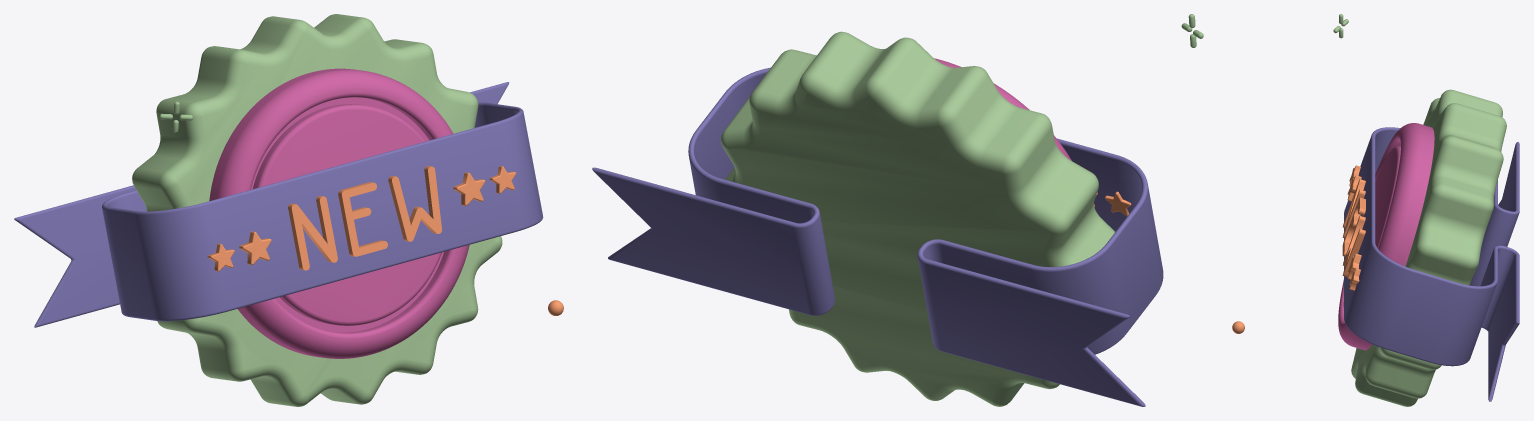
File: new-product-badge-3d-animated-icon-158497632342.glb
3 renders of one model, left to right at view 1: azimuth 30°, elevation 25°; view 2: azimuth 150°, elevation 25°; view 3: azimuth 270°, elevation 25°, orthographic. The views are drawn at different scales.
Visible parts, largest first — view 1: Plane, Circle, Cylinder.002, Curve.001, Curve.002, Curve, Curve.004, Curve.005; view 2: Circle, Plane; view 3: Plane, Circle, Cylinder.002, Curve.002, Curve, Curve.001, Curve.004, Curve.005.
Boxes of the visible parts, <box> form: Plane: <box>14,82,543,327</box>; Circle: <box>132,14,502,406</box>; Cylinder.002: <box>209,68,469,358</box>; Curve.001: <box>288,196,337,270</box>; Curve.002: <box>388,166,441,241</box>; Curve: <box>338,182,387,256</box>; Curve.004: <box>239,172,485,264</box>; Curve.005: <box>207,166,516,271</box>; Circle: <box>721,31,1114,406</box>; Plane: <box>592,67,1163,406</box>; Plane: <box>1344,127,1519,401</box>; Circle: <box>1351,89,1506,406</box>; Cylinder.002: <box>1338,123,1434,350</box>; Curve.002: <box>1342,216,1365,277</box>; Curve: <box>1342,197,1365,256</box>; Curve.001: <box>1342,179,1365,238</box>; Curve.004: <box>1347,175,1361,279</box>; Curve.005: <box>1349,165,1360,290</box>.
Size of the model in its own units: 3.42 by 2.46 by 2.13.
